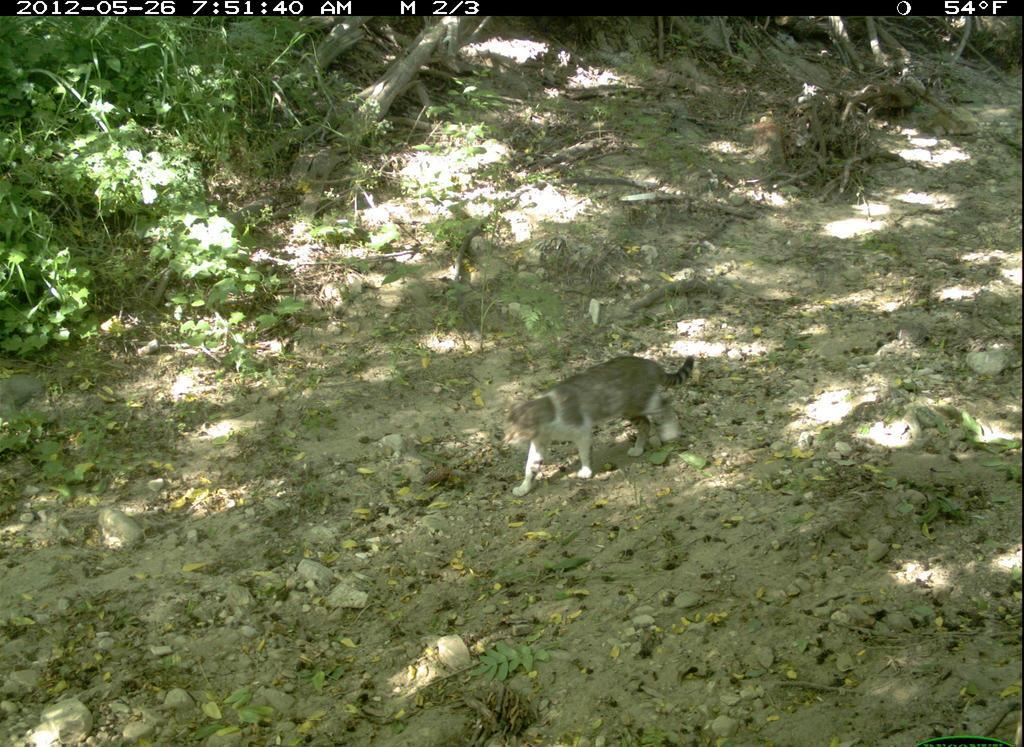cat: (493, 350, 703, 505)
